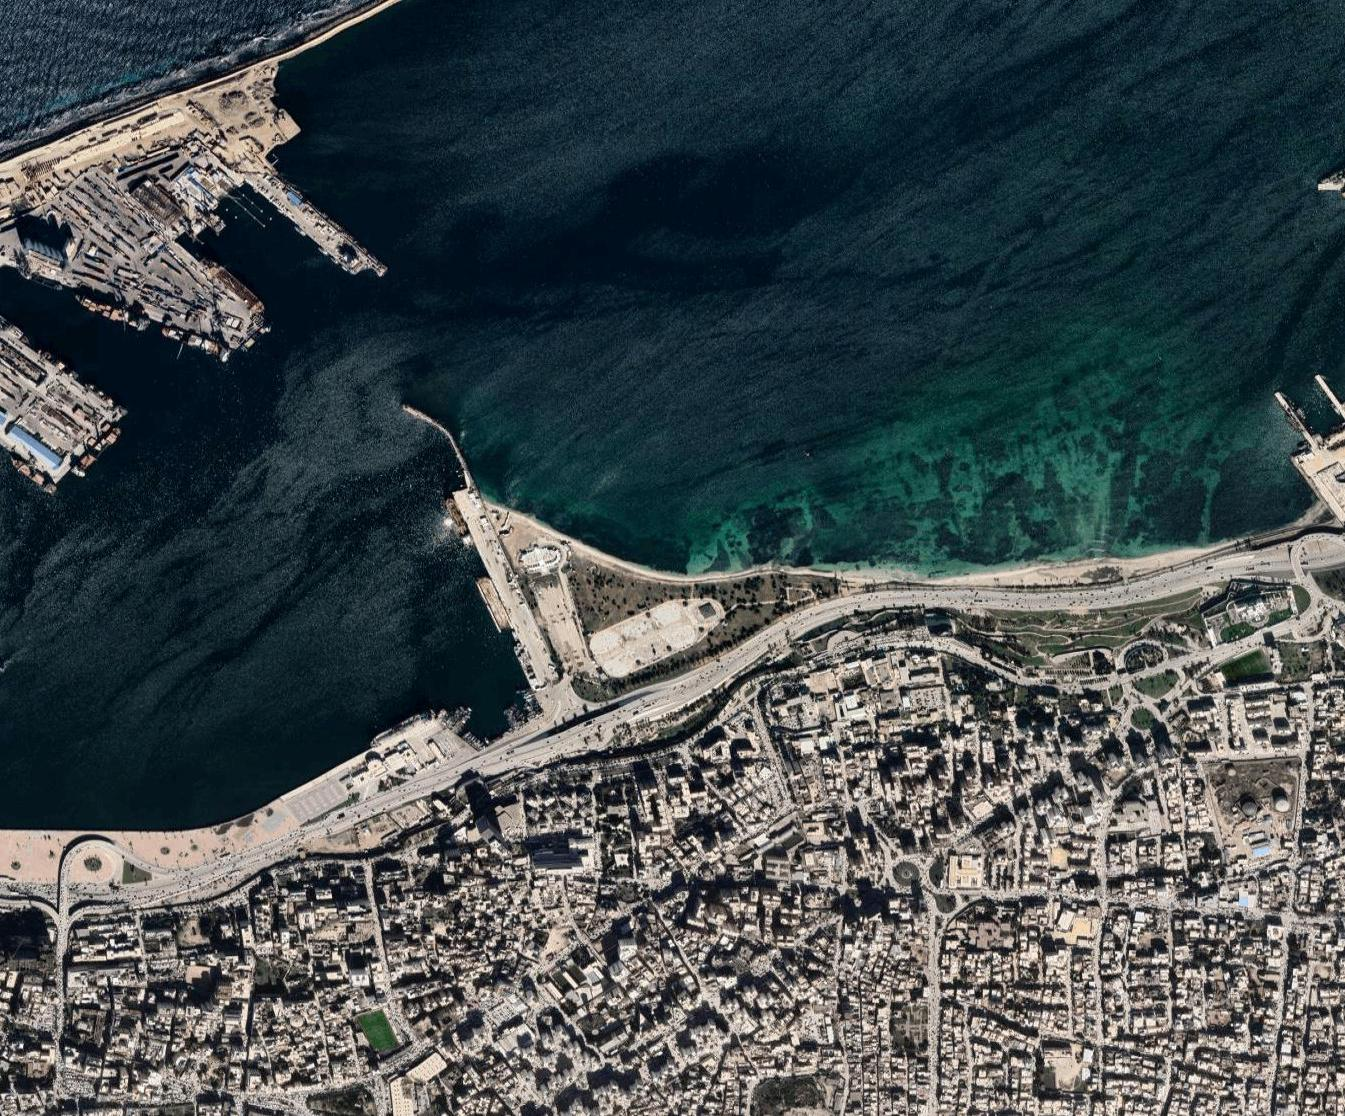harbor: (1, 15, 431, 511), (385, 403, 645, 671)
